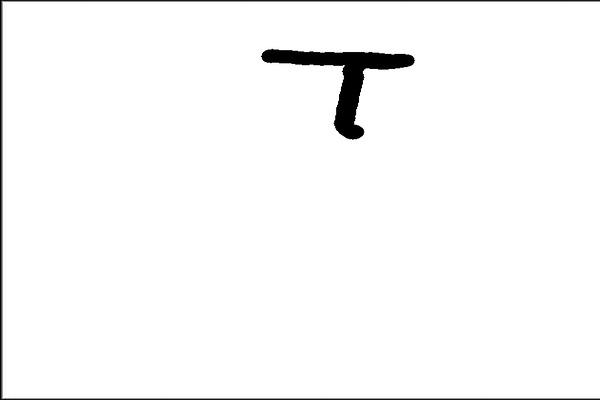T: (252, 42, 419, 143)
